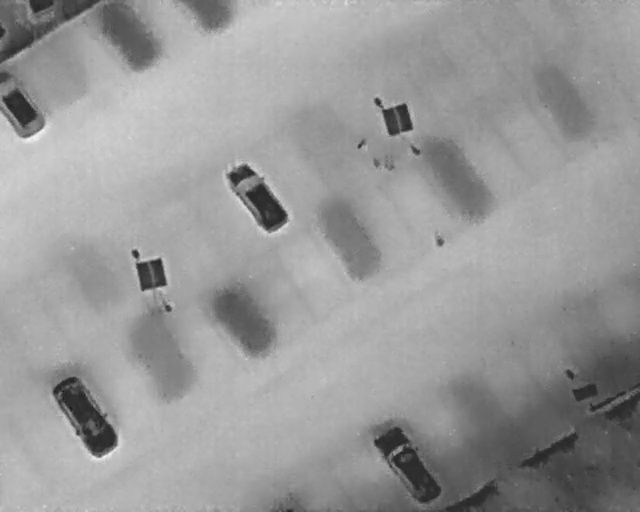Car: (43, 369, 126, 464), (369, 418, 448, 510), (220, 155, 295, 239), (0, 68, 47, 140)
